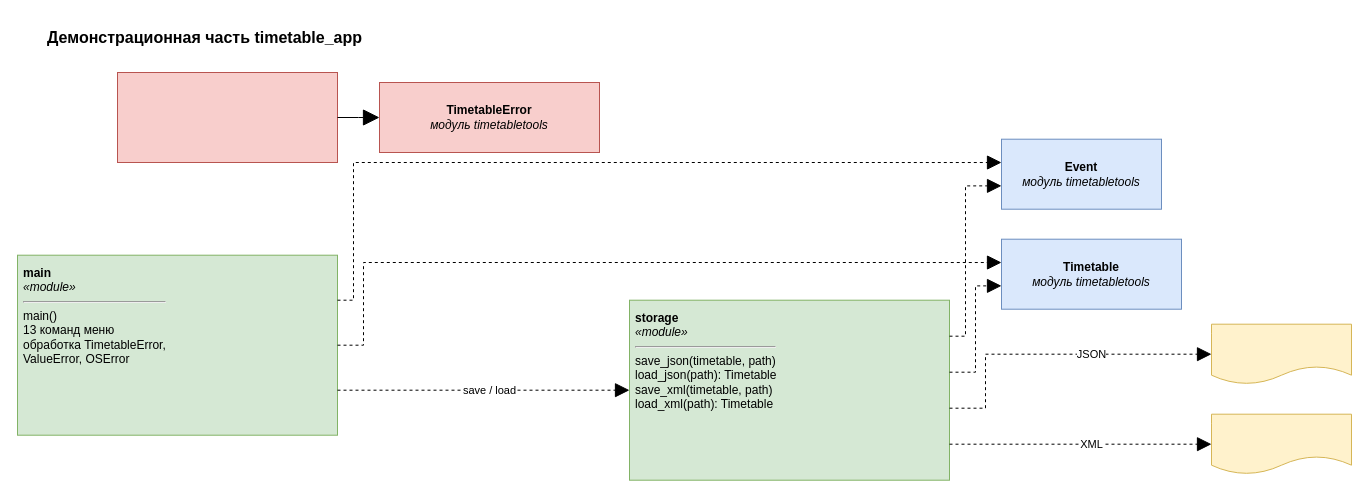
This 1369x498 diagram has some shape labels left out. The shapes that lost their labels are listed below. From the top down, each one's centre as x and y in pixels, then its label:
[227,117]: StorageError ошибка чтения/записи файла
[1281,353]: timetable.json
[1281,443]: timetable.xml
